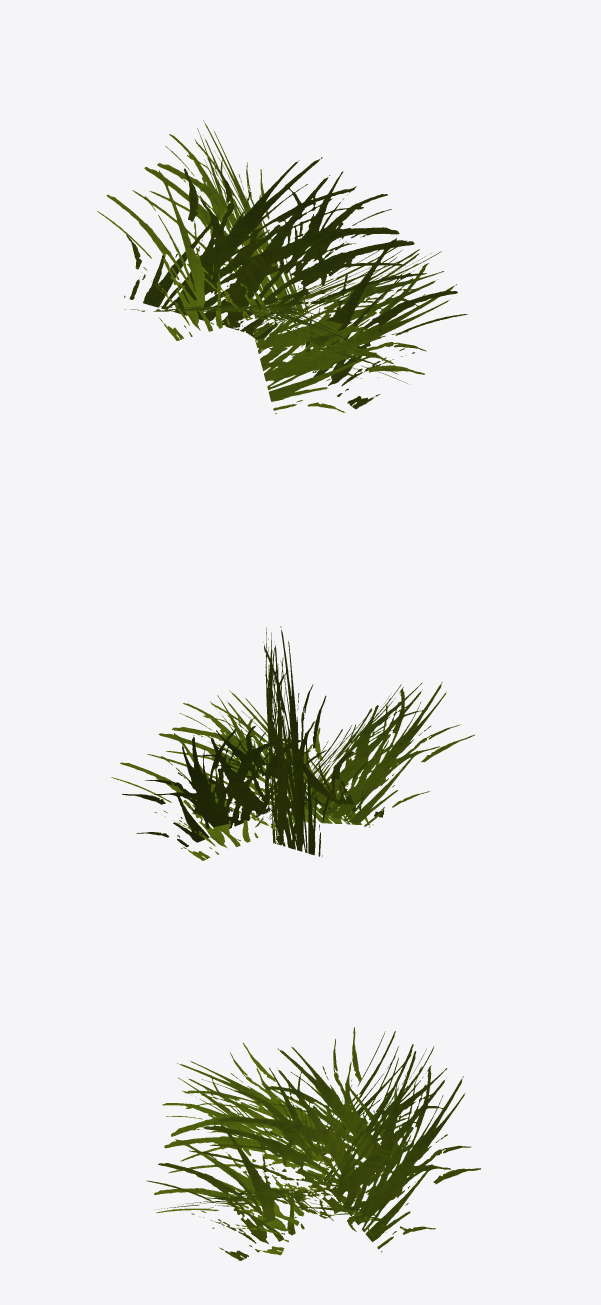
The model's file is grass.gltf.
3 views of the same model, one above another, from view 1: azimuth 30°, elevation 25°; view 2: azimuth 150°, elevation 25°; view 3: azimuth 270°, elevation 25° (orthographic). The views are drawn at different scales.
Parts seen in each view (by area): view 1: Mesh_Object1; view 2: Mesh_Object1; view 3: Mesh_Object1.
Part boxes in pixels (bbox=[...]): Mesh_Object1: bbox=[97, 120, 467, 414]; Mesh_Object1: bbox=[111, 626, 474, 860]; Mesh_Object1: bbox=[146, 1027, 480, 1260].
Size of the model in its own units: 59.04 by 43.45 by 66.56.
1 material, 1 textured.
